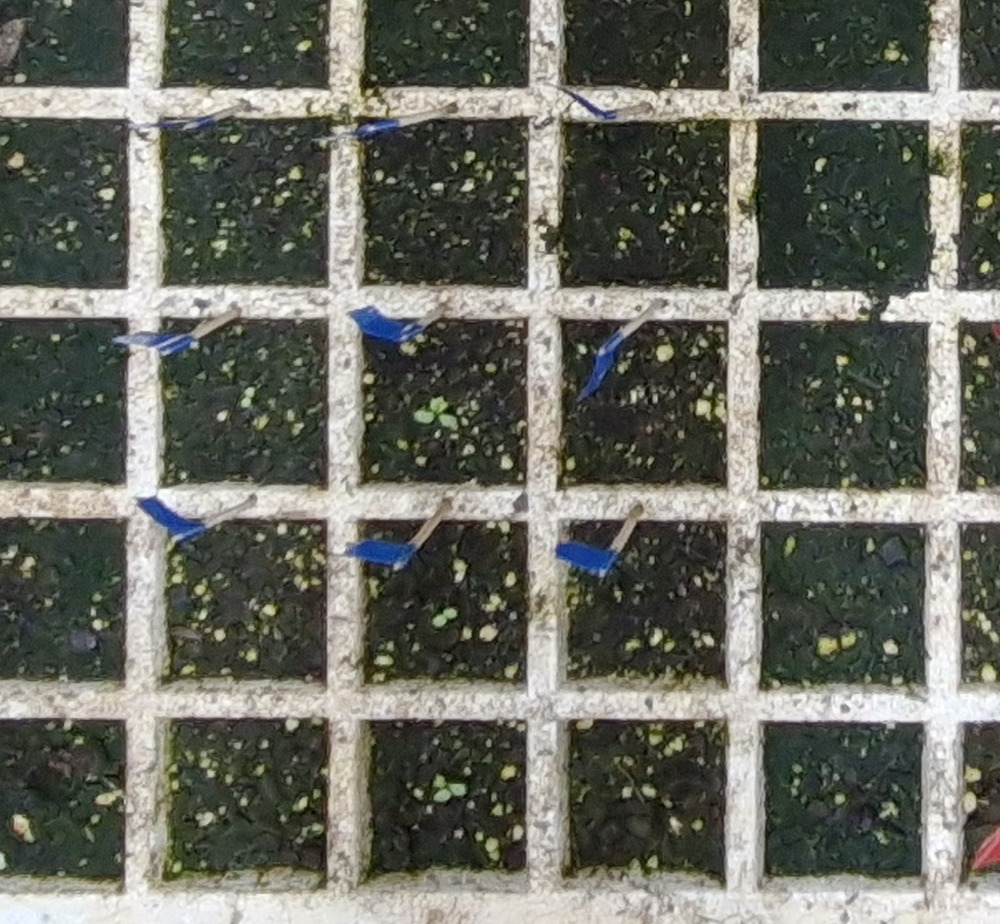Folha: (435, 789, 452, 801), (448, 784, 466, 795), (433, 773, 446, 788), (432, 614, 446, 626), (444, 608, 458, 618)
Germinacao: (434, 774, 467, 801), (431, 608, 458, 626)
